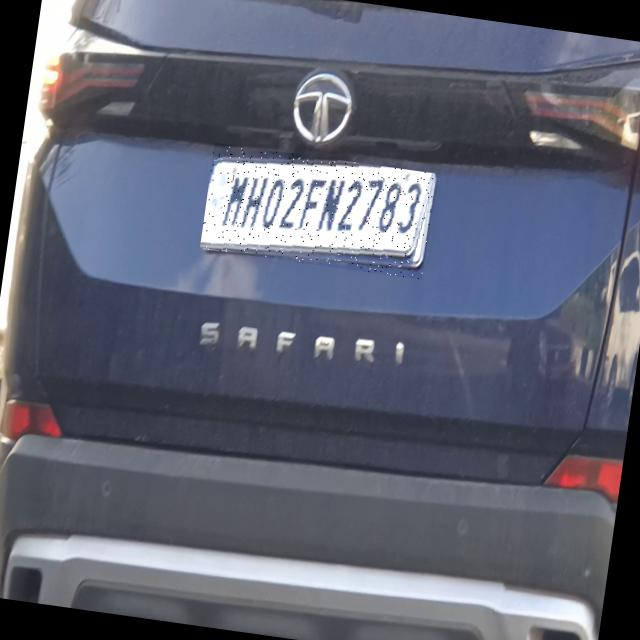Plate: (201, 144, 438, 281)
